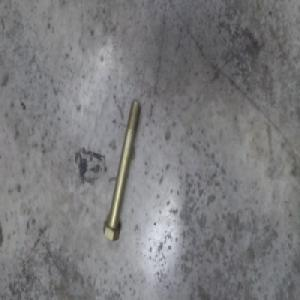Bolt: (100, 104, 142, 244)
